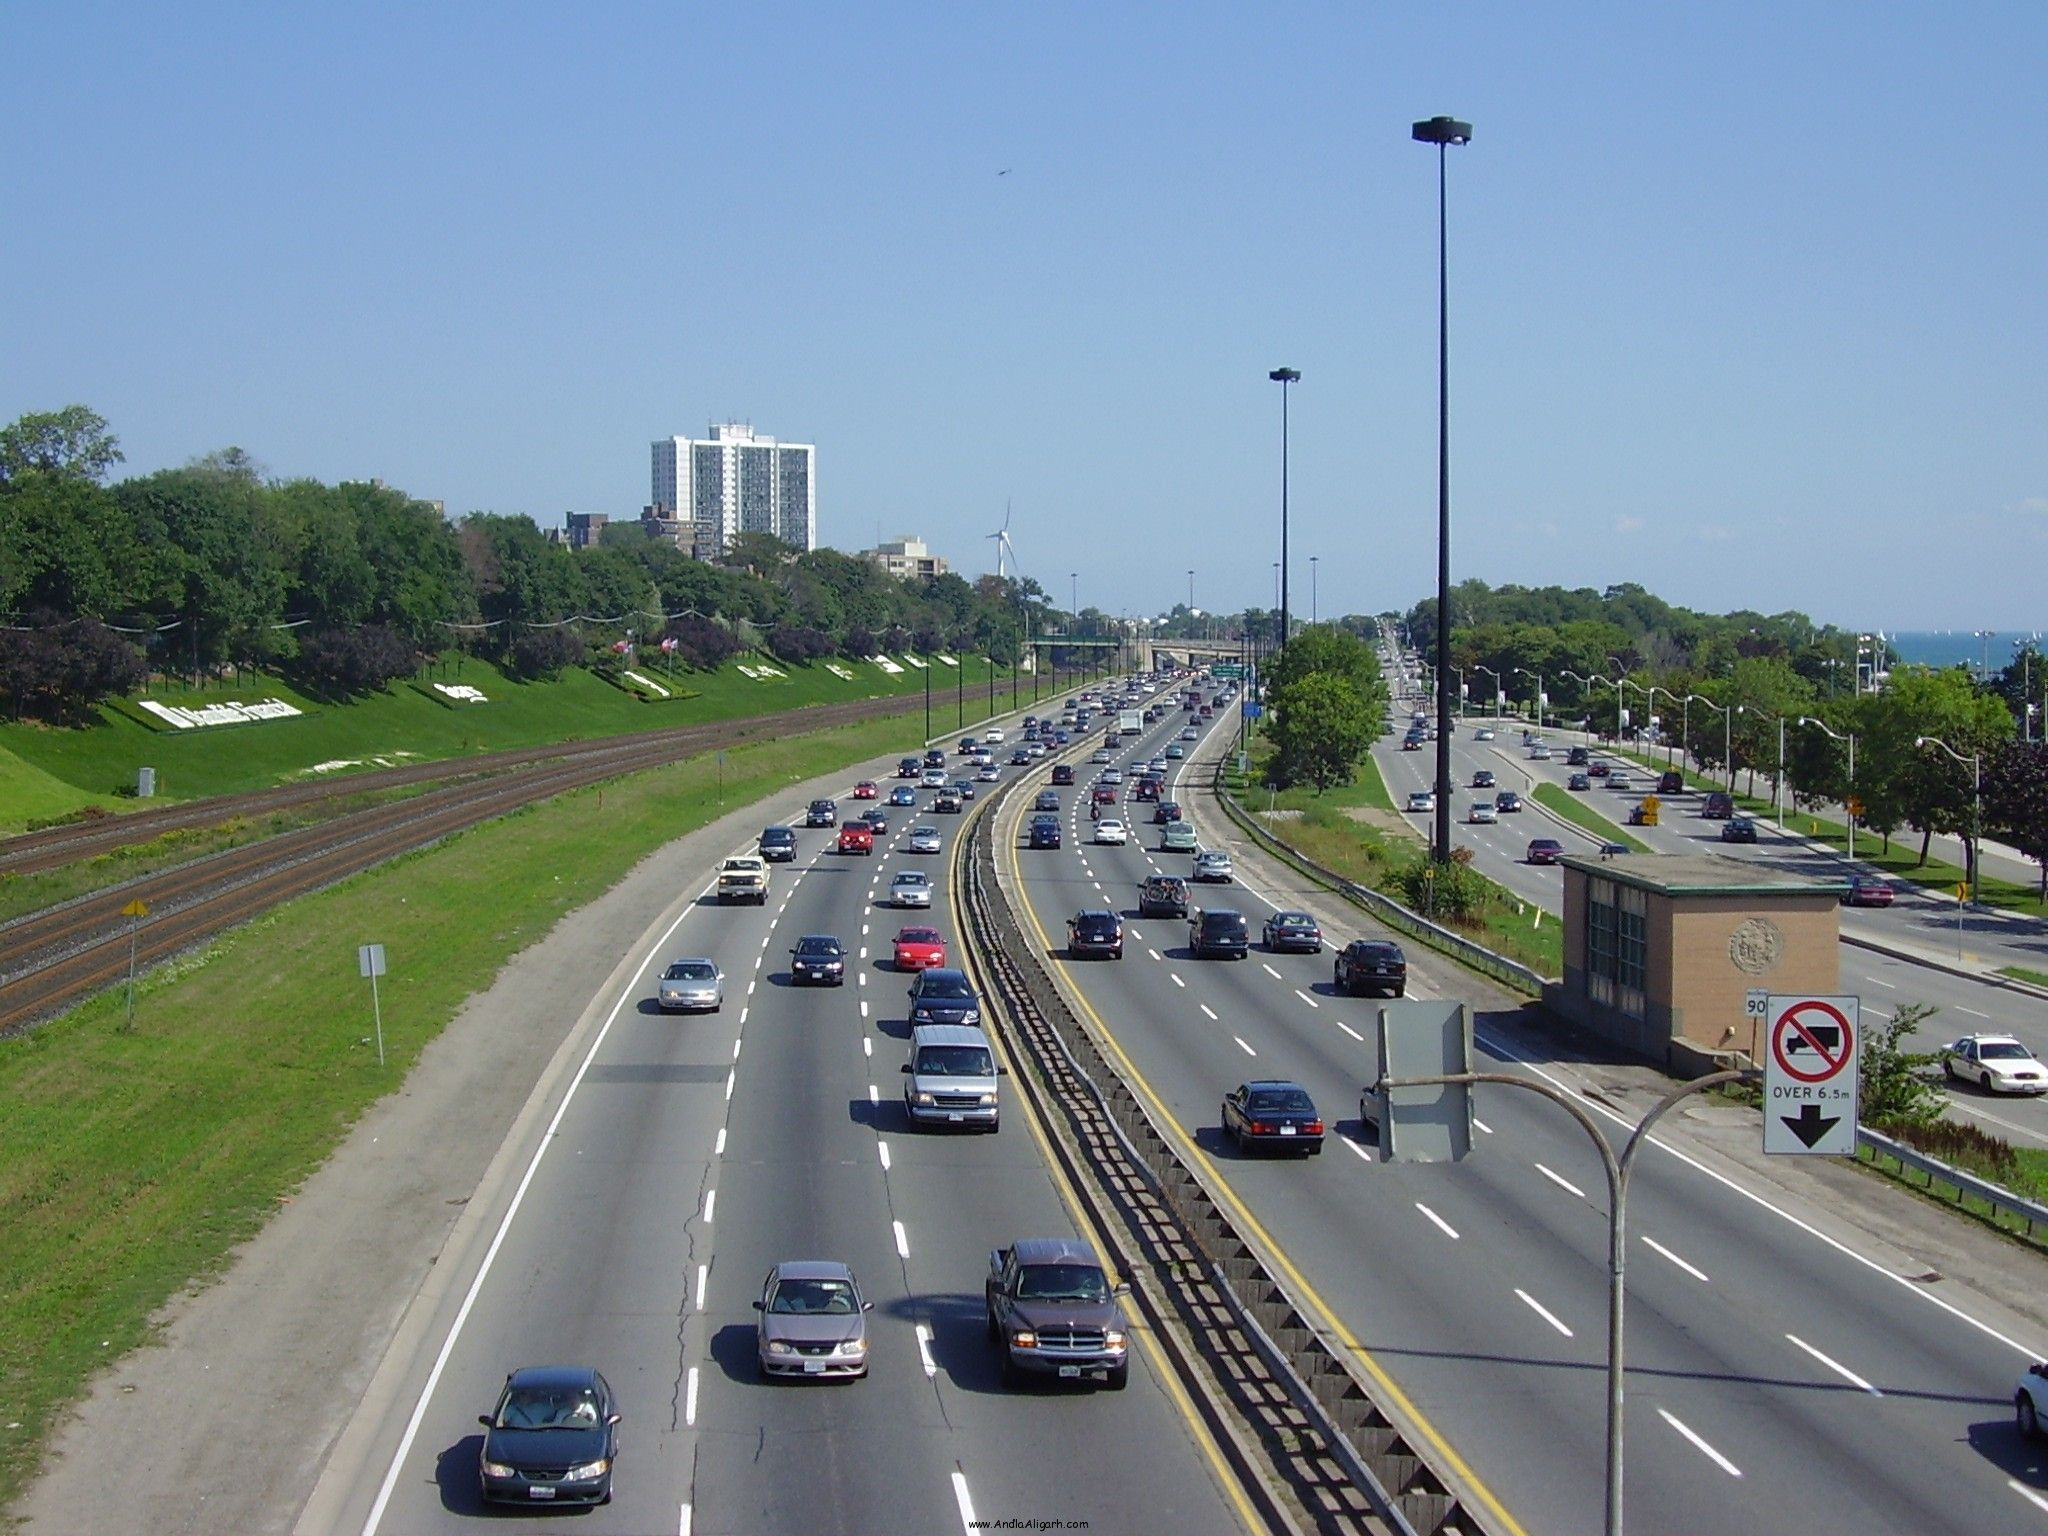Car: (974, 1226, 1138, 1397), (481, 1362, 627, 1517), (753, 1241, 874, 1389), (895, 1031, 1011, 1134), (1213, 1079, 1329, 1158), (1056, 912, 1129, 970), (656, 954, 727, 1010), (789, 931, 853, 989)
